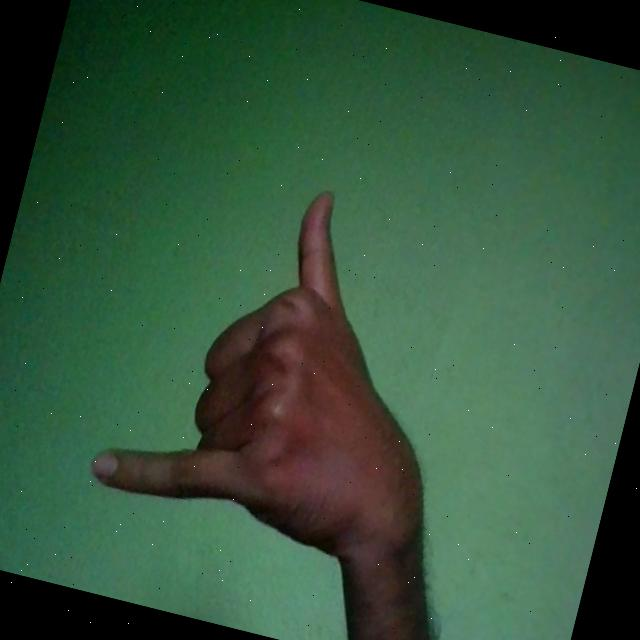Call Me: (84, 154, 499, 578)
